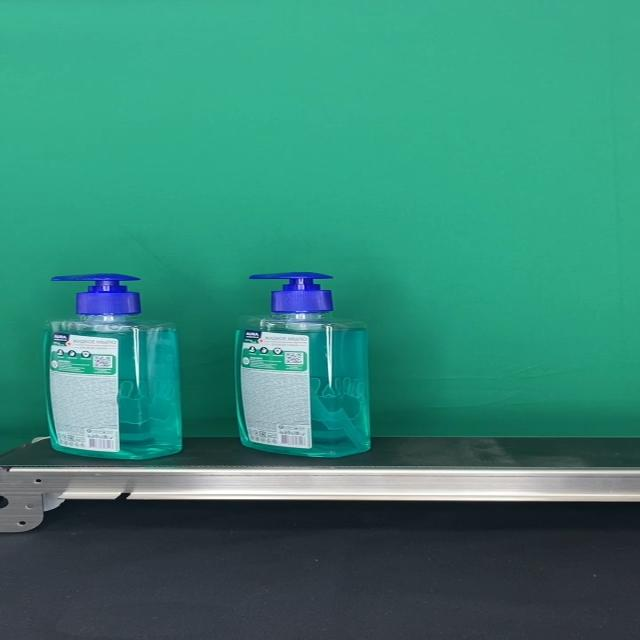Bottle: (44, 273, 182, 460), (234, 273, 370, 458)
Cap: (51, 273, 142, 316), (248, 272, 334, 314)
